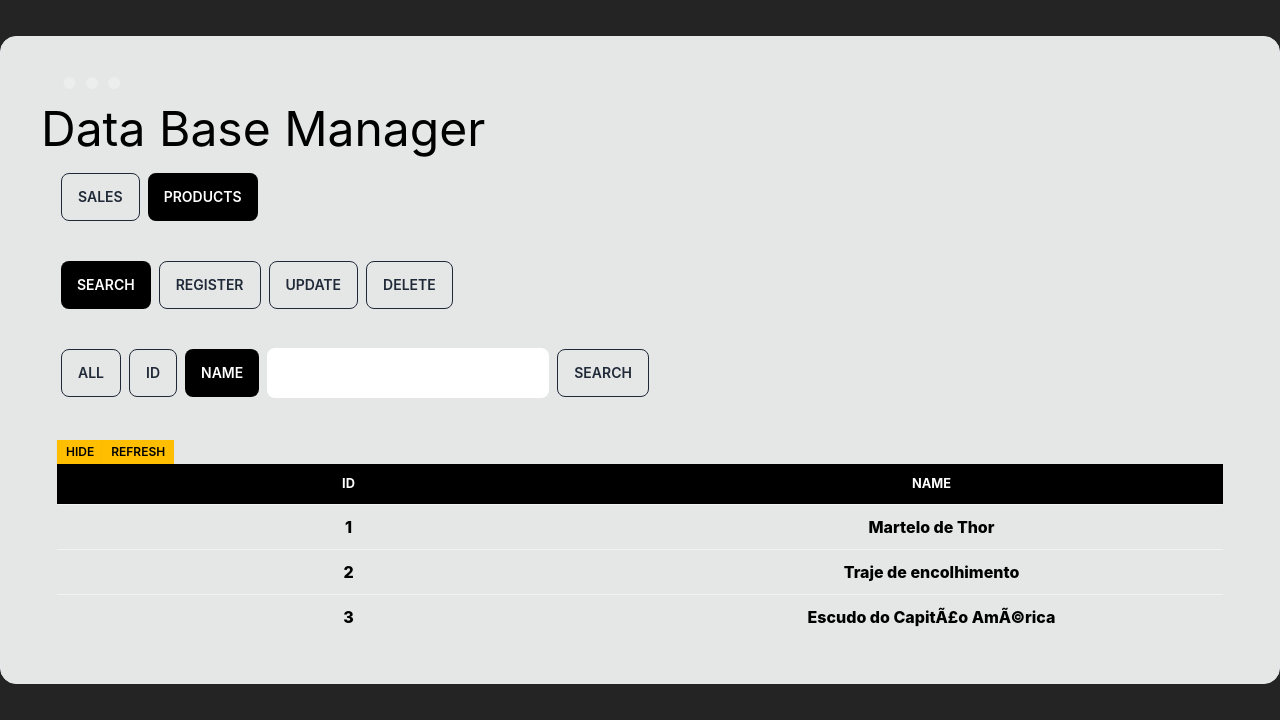
it: PRODUCTS FUNCTION - TEST › Register a new product
Click the button "register".
click(210, 285)  # box [159, 261, 260, 309]
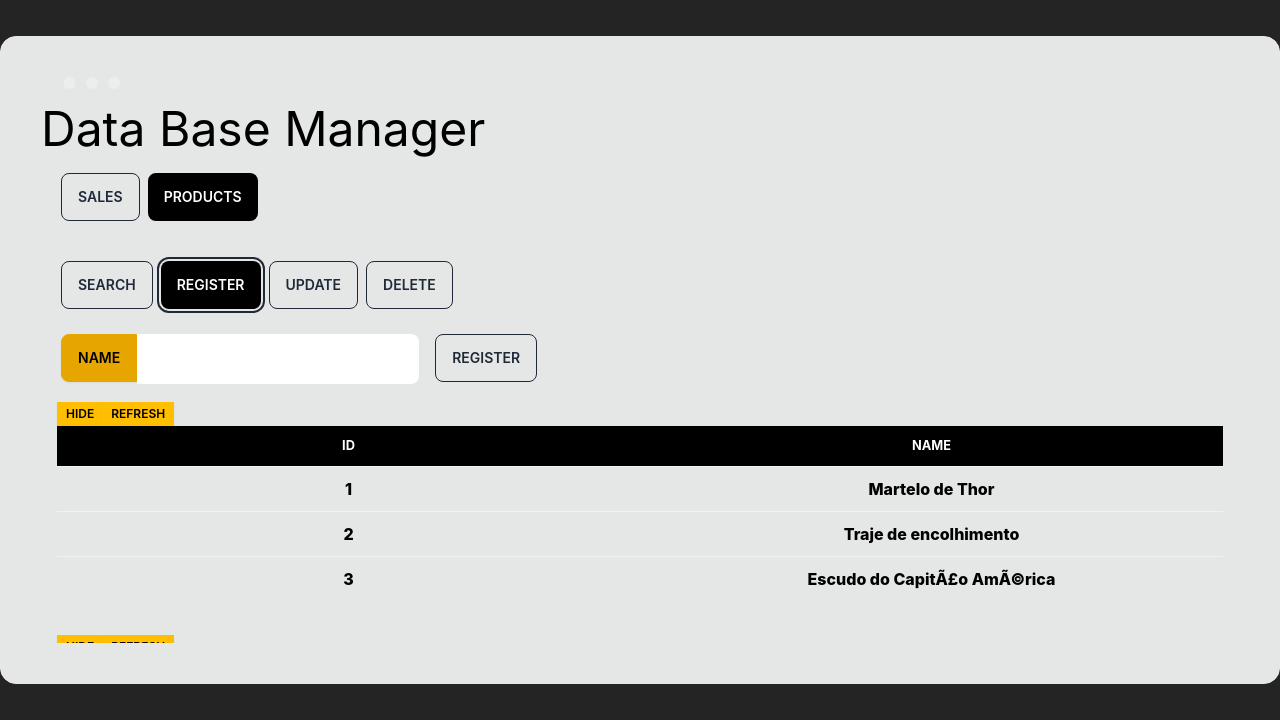
Type "Register Test" into the field.
click(278, 359); type("Register Test")  # box [137, 334, 419, 384]
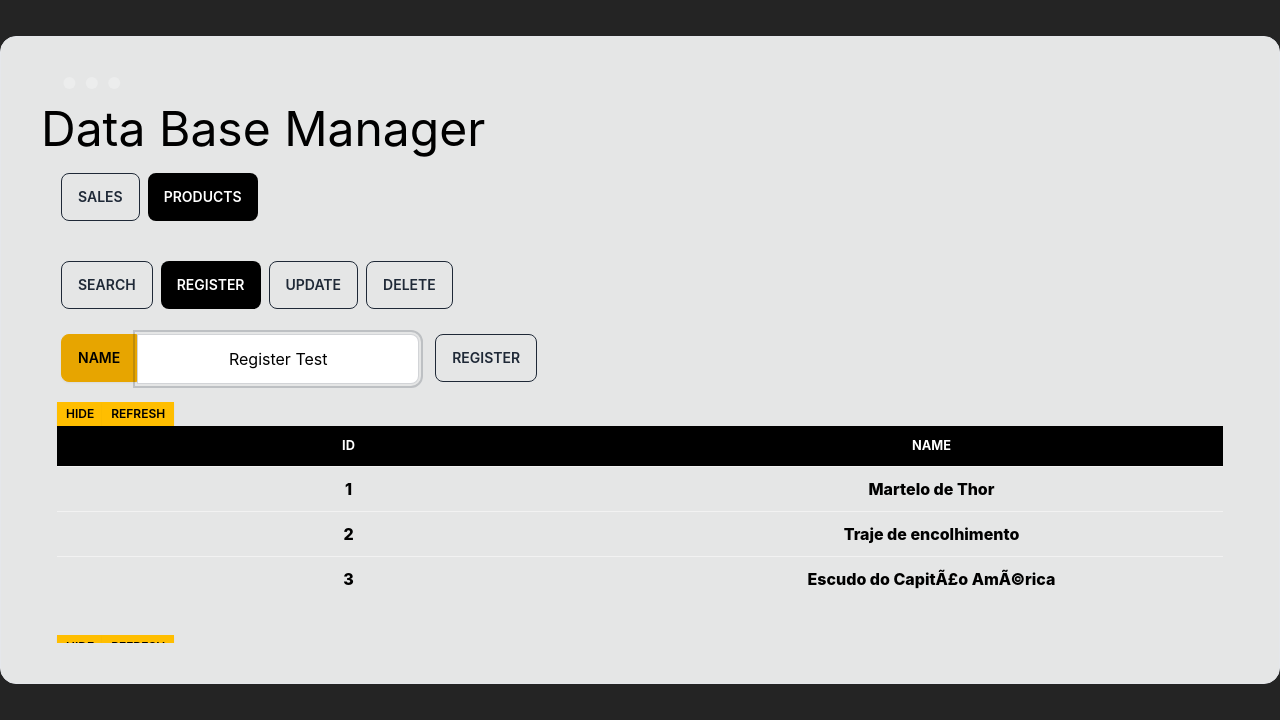
Click the button "REGISTER".
click(486, 358)  # box [435, 334, 537, 382]
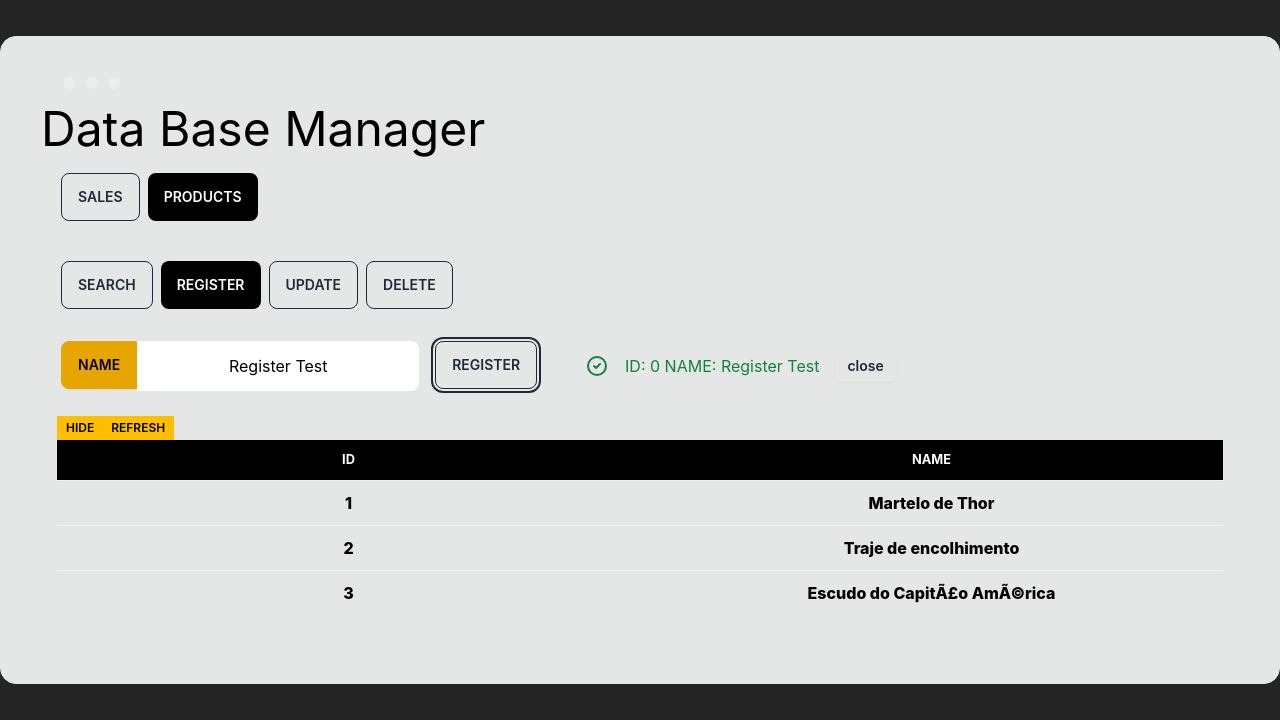
Result: the message "ID: 0 NAME: Register Test close" is shown at [585, 350, 896, 382]
Result: the text "ID: 0 NAME: Register Test" is shown at [625, 356, 820, 376]
Click the button "close".
click(866, 366)  # box [835, 350, 896, 382]
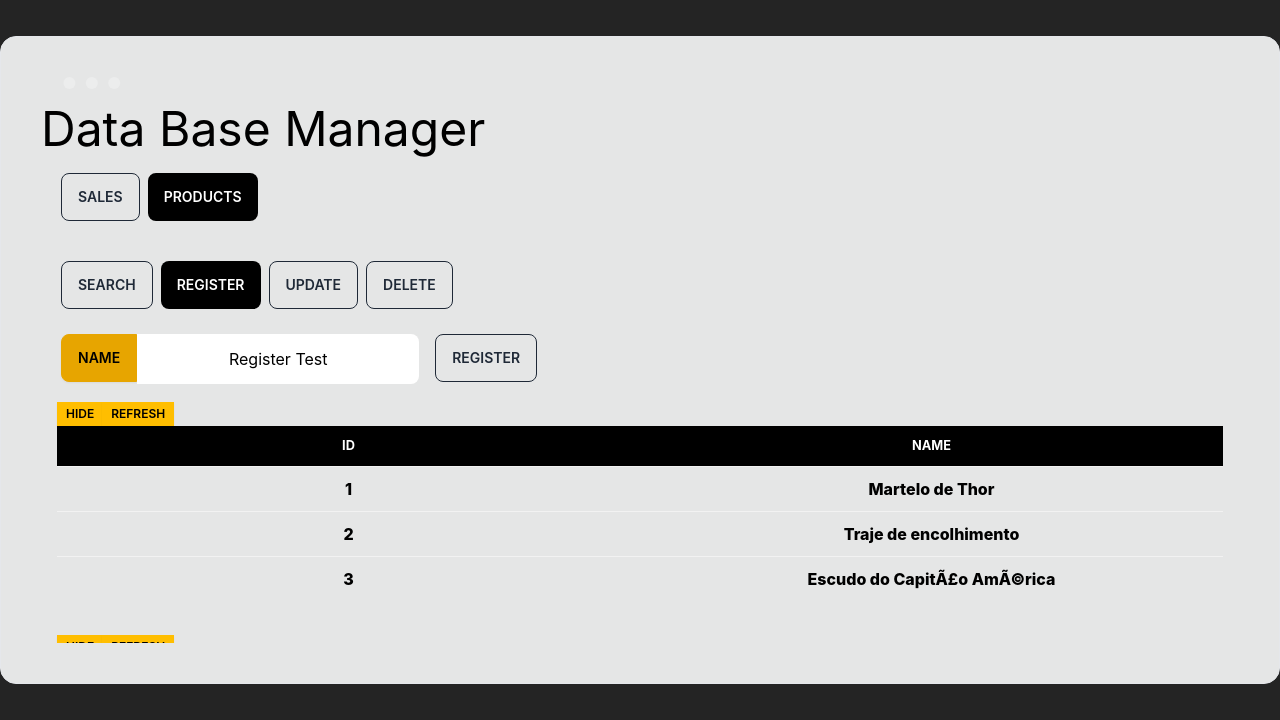
Result: the message "ID: 0 NAME: Register Test close" is gone
